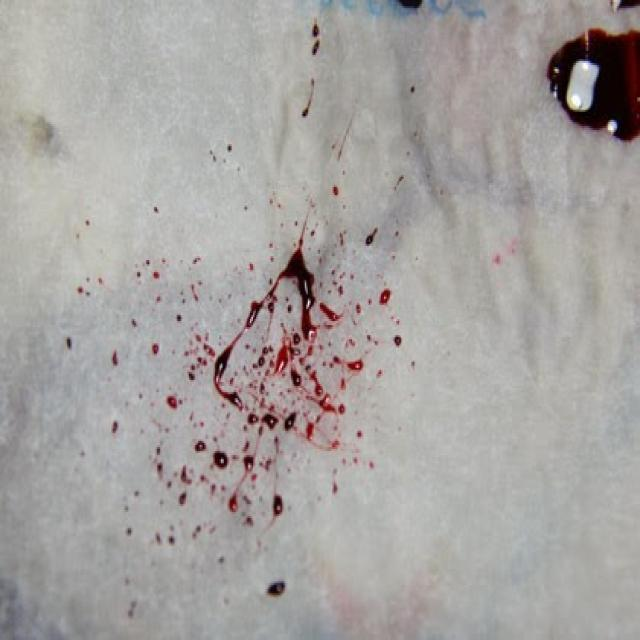wound: (162, 212, 428, 614), (514, 21, 640, 153)
